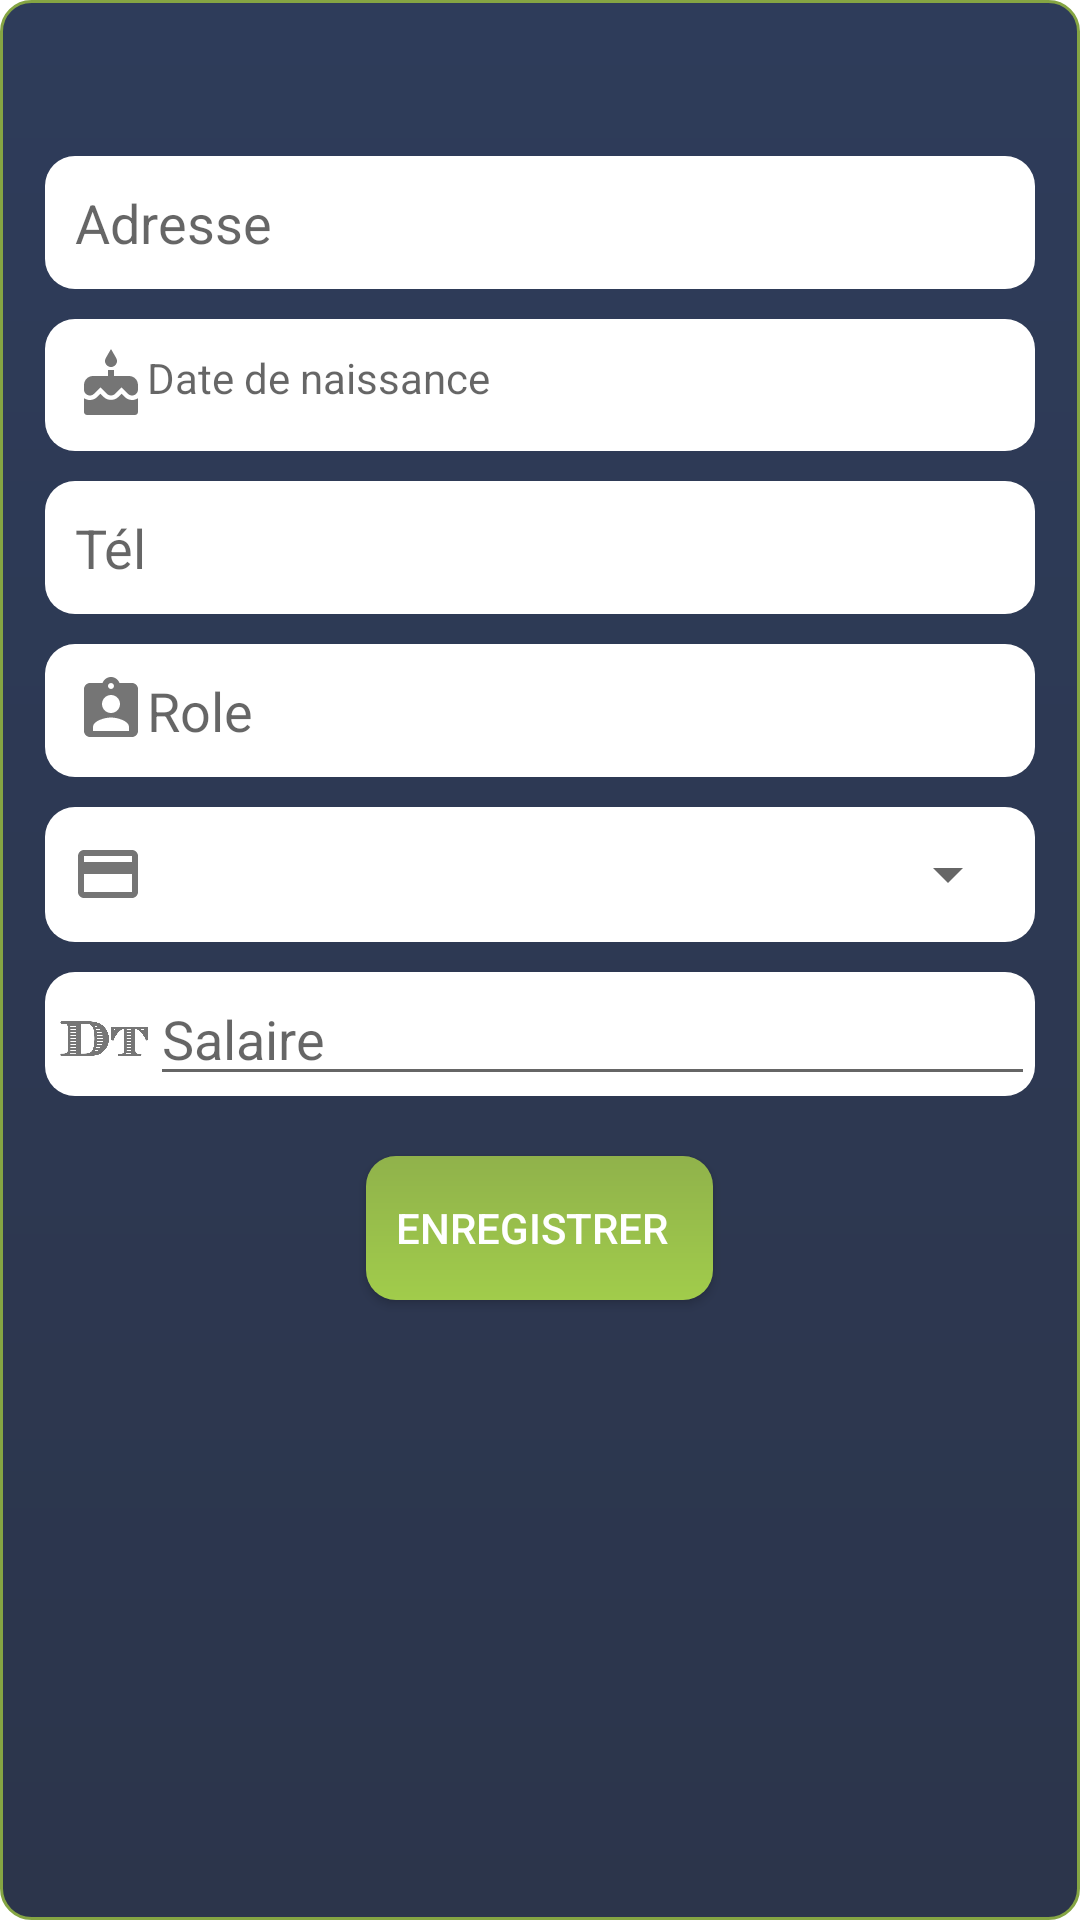

Icons on this 1080 x 1920 Android screen, each with its box as (x1, y1, x2, y2):
credit card: (78, 850, 138, 898)
